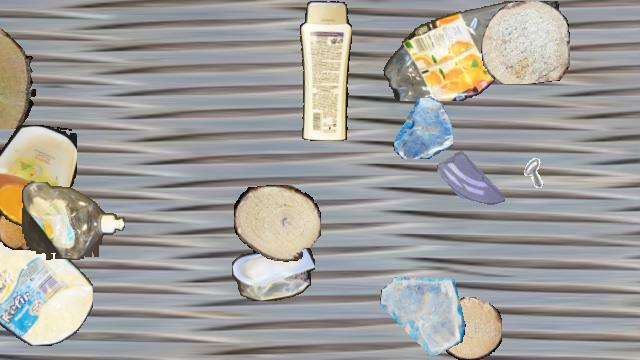glass: (379, 273, 465, 359), (437, 144, 505, 212), (392, 98, 452, 158)
metal: (499, 153, 545, 199)
plastic: (382, 1, 564, 101), (0, 200, 92, 346), (22, 182, 124, 260), (0, 125, 77, 227), (297, 1, 351, 141), (232, 240, 314, 300)
wood: (481, 1, 569, 83), (234, 185, 320, 261), (440, 297, 502, 359), (0, 22, 35, 128), (0, 204, 42, 250)
